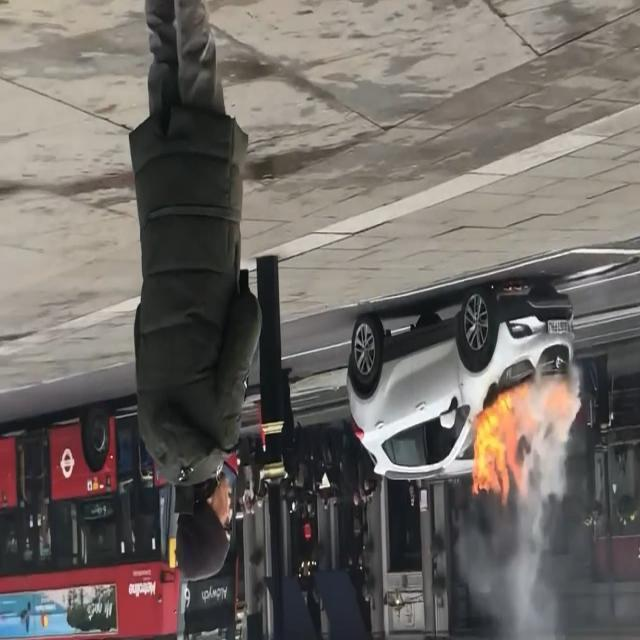fire: (468, 384, 582, 509)
